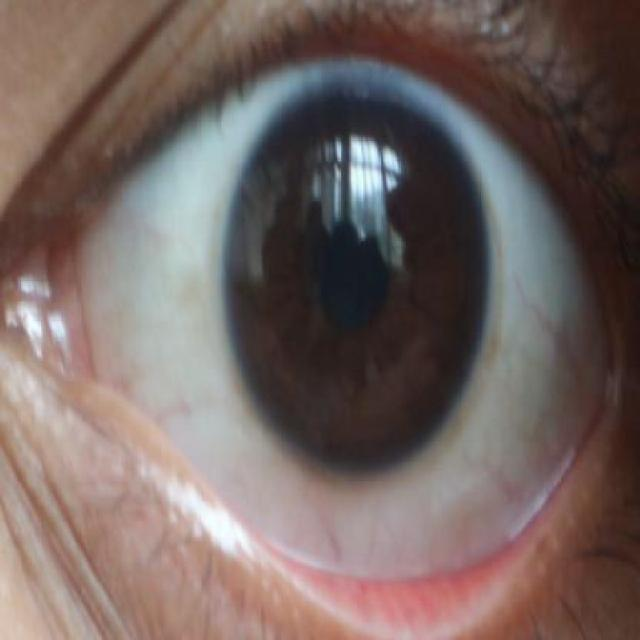Normal: (219, 83, 491, 479)
